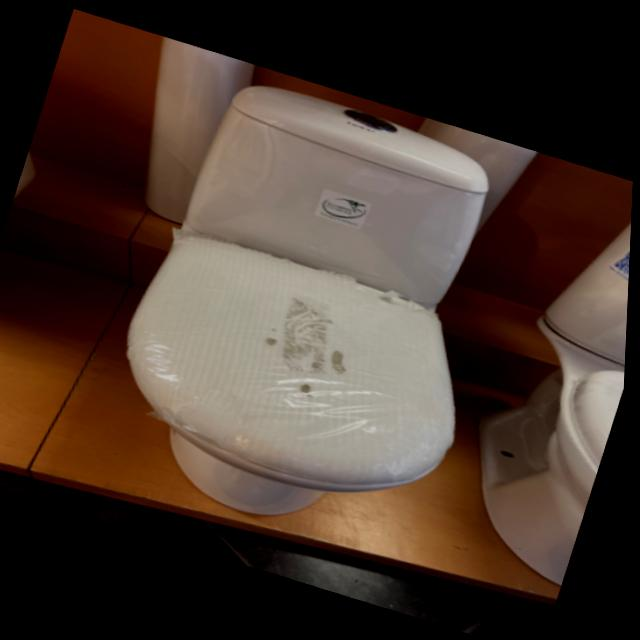toilet: (85, 58, 545, 564)
